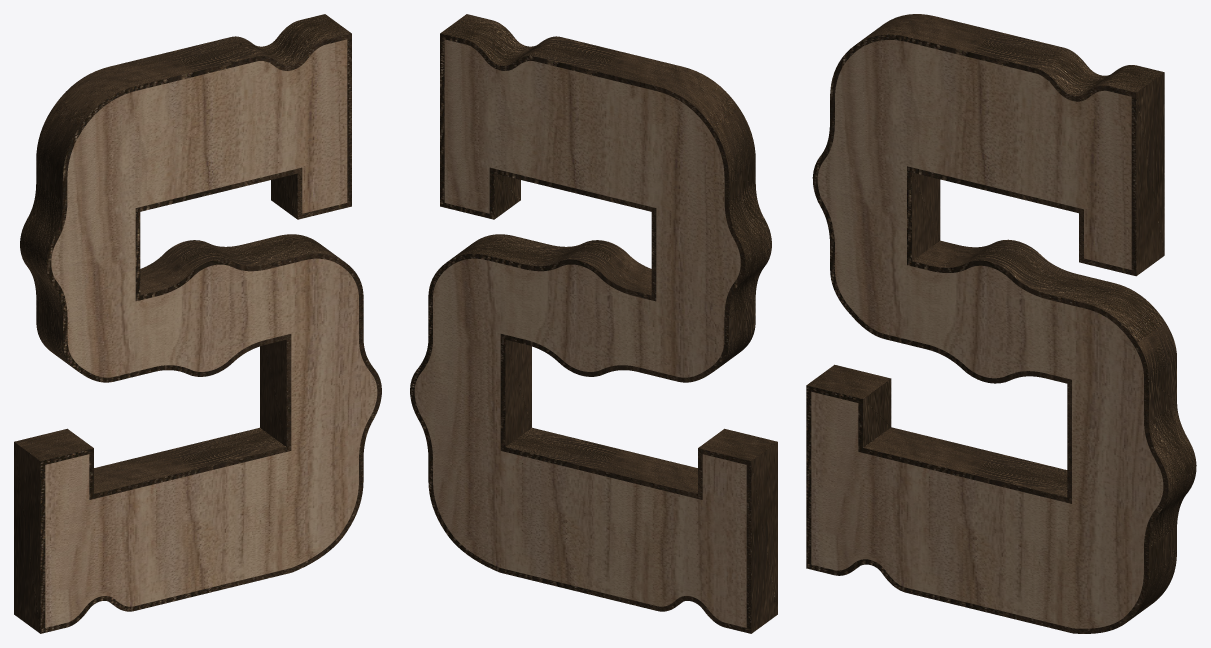
3 renders of one model, left to right at view 1: azimuth 30°, elevation 25°; view 2: azimuth 150°, elevation 25°; view 3: azimuth 330°, elevation 25°, orthographic. The views are drawn at different scales.
Parts seen in each view (by area): view 1: S, S_outline; view 2: S, S_outline; view 3: S, S_outline.
Boxes of the visible parts, x1,y1,x2,y2 form: S: [45, 39, 377, 627]; S_outline: [14, 14, 381, 633]; S: [414, 39, 746, 627]; S_outline: [410, 14, 777, 633]; S: [811, 40, 1163, 628]; S_outline: [806, 14, 1196, 633].
Bounding box in the file's own units: 74.09 × 109 × 10.
Materials: 2 (2 with a texture image).
